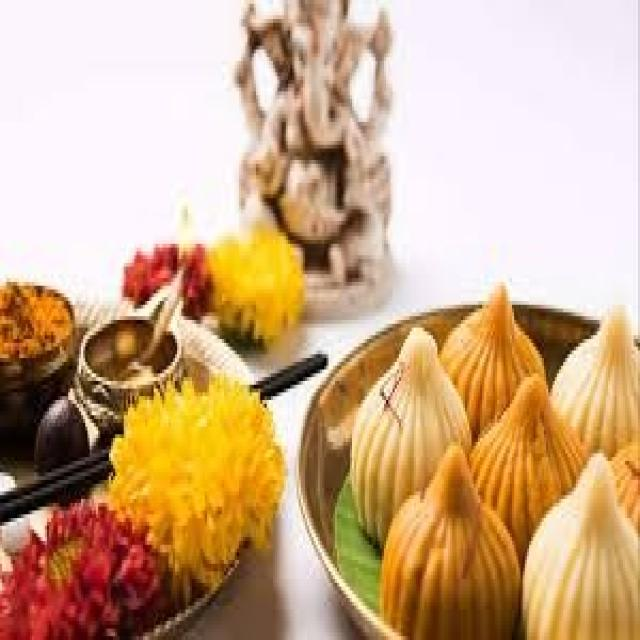poorna kolukattai: (335, 247, 638, 640)
